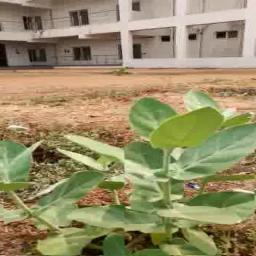Calotropis: (102, 97, 255, 256), (4, 116, 125, 256)
